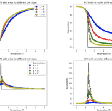

This screenshot's page, from the dashboard's own definition file:
{"tool":"tableau","page":{"name":"Dashboard 1","canvas":[1000,800],"ordinal":0},"visuals":[{"type":"image","param":"C:/Users/avelazquez/Documents/GitHub/jobsity-challenge/logo-jobsity.jpg","box":[8,8,171,143]},{"type":"text","box":[179,8,813,143]},{"type":"filter","title":"Weekly average number of trips by Region","param":"[federated.002874d0vdv9fd1crma9j1gcyblt].[yr:datetime:ok]","box":[8,151,328,52]},{"type":"filter","title":"Weekly average number of trips by Region","param":"[federated.002874d0vdv9fd1crma9j1gcyblt].[qr:datetime:ok]","box":[336,151,328,52]},{"type":"filter","title":"Weekly average number of trips by Region","param":"[federated.002874d0vdv9fd1crma9j1gcyblt].[mn:datetime:ok]","box":[664,151,328,52]},{"type":"worksheet","title":"Weekly average number of trips by Region","mark":"Automatic","rows":["Calculation_1273111349036146691"],"cols":["region"],"box":[8,203,984,277]},{"type":"blank","box":[8,480,984,20]},{"type":"worksheet","title":"Weekly trips","mark":"Bar","rows":["Calculation_1273111349027459072","Calculation_1273111349027459072"],"cols":["datetime"],"box":[8,500,984,292]}]}

Visuals, with their boxes on the page's 1000x800 design canvas (x1, y1, x2, y2). These are canvas units, not pixel positions in the 112x111 screenshot, which may show the page scaled, cropped or inside an application window:
image: crop(8, 8, 179, 151)
text: crop(179, 8, 992, 151)
"Weekly average number of trips by Region" filter: crop(8, 151, 336, 203)
"Weekly average number of trips by Region" filter: crop(336, 151, 664, 203)
"Weekly average number of trips by Region" filter: crop(664, 151, 992, 203)
"Weekly average number of trips by Region" worksheet: crop(8, 203, 992, 480)
blank: crop(8, 480, 992, 500)
"Weekly trips" worksheet (Bar marks): crop(8, 500, 992, 792)
